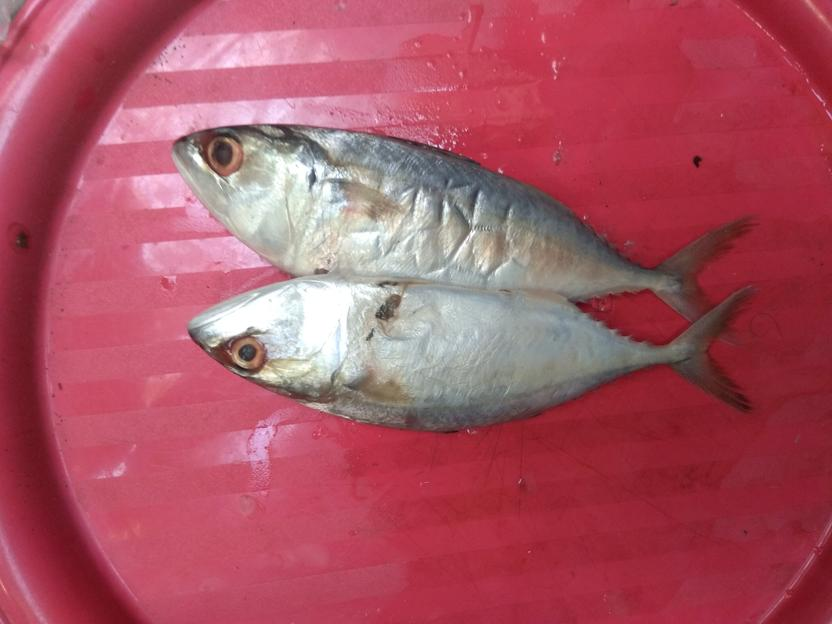Fish head: (169, 123, 326, 273), (186, 276, 351, 413)
Fish tail: (647, 211, 761, 348), (663, 280, 764, 416)
